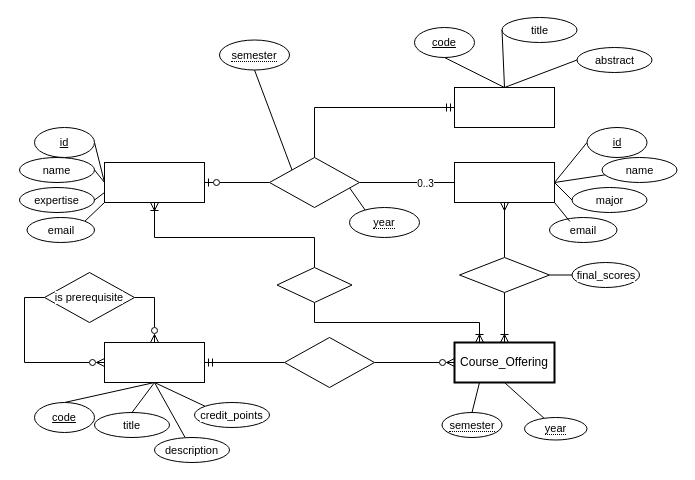
Some shapes in this 695 by 480 pixel diagram are drawn without their labels. The box of each missing label's shape, as (x1, y1, x2, y2) in pixels:
Course: (104, 342, 204, 382)
is offered: (284, 336, 374, 388)
Lecturer: (104, 162, 204, 202)
Student: (454, 162, 554, 202)
supervises: (268, 156, 360, 208)
takes: (458, 256, 550, 292)
teaches: (276, 266, 352, 302)
Thesis: (454, 86, 554, 128)
